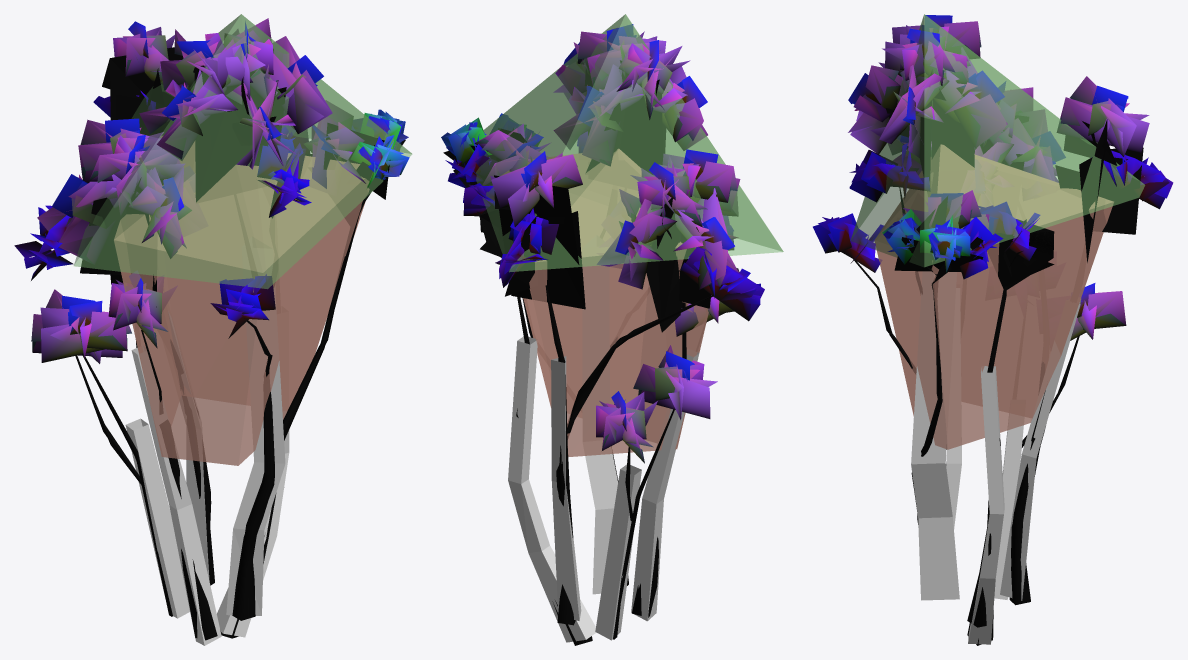
The model's file is holm_oak_filler_3.dae.
3 views of the same model, side by side, from view 1: azimuth 30°, elevation 25°; view 2: azimuth 150°, elevation 25°; view 3: azimuth 270°, elevation 25° (orthographic). The views are drawn at different scales.
Visible parts, largest first — view 1: Colmesh-1, holm_oak_filler_3_b2000, holm_oak_filler_3_b500; view 2: Colmesh-1, holm_oak_filler_3_b2000, holm_oak_filler_3_b500; view 3: Colmesh-1, holm_oak_filler_3_b2000, holm_oak_filler_3_b500.
Boxes of the visible parts, box(x1,y1,x2,y2) form: Colmesh-1: box(74, 14, 412, 645); holm_oak_filler_3_b2000: box(15, 18, 409, 640); holm_oak_filler_3_b500: box(14, 18, 409, 638); Colmesh-1: box(476, 14, 783, 642); holm_oak_filler_3_b2000: box(442, 31, 764, 639); holm_oak_filler_3_b500: box(441, 24, 764, 645); Colmesh-1: box(850, 14, 1144, 644); holm_oak_filler_3_b2000: box(818, 15, 1173, 627); holm_oak_filler_3_b500: box(813, 16, 1149, 645).
Size of the model in its own units: 9.06 by 8.24 by 15.6.
